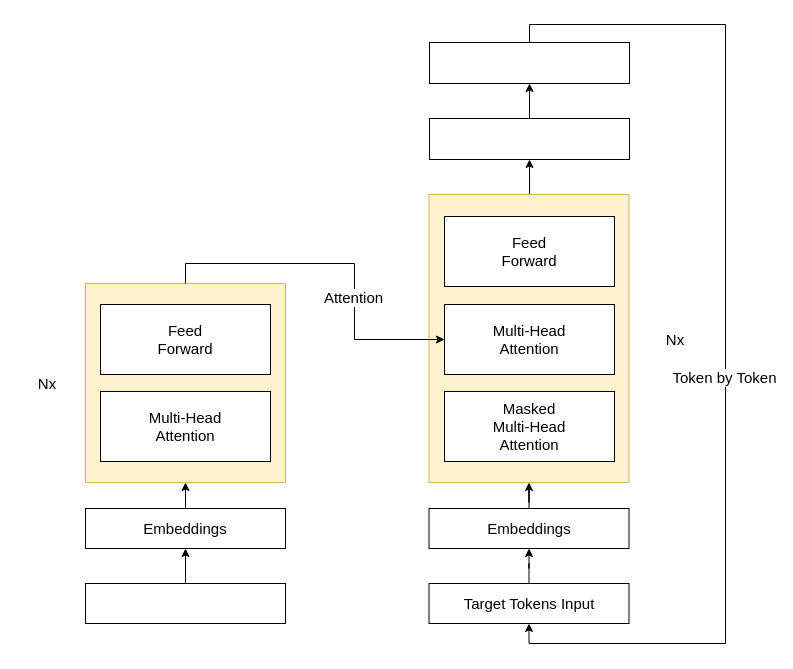
Some shapes in this 793 by 669 pixel diagram are drawn without their labels. The shapes that lost their labels are listed below. From the top down, each one's centre as x and y in pixels, then its label:
At point 529,63: "Target Tokens Output".
At point 529,139: "OutputProbs".
At point 185,603: "Source Tokens Input".
